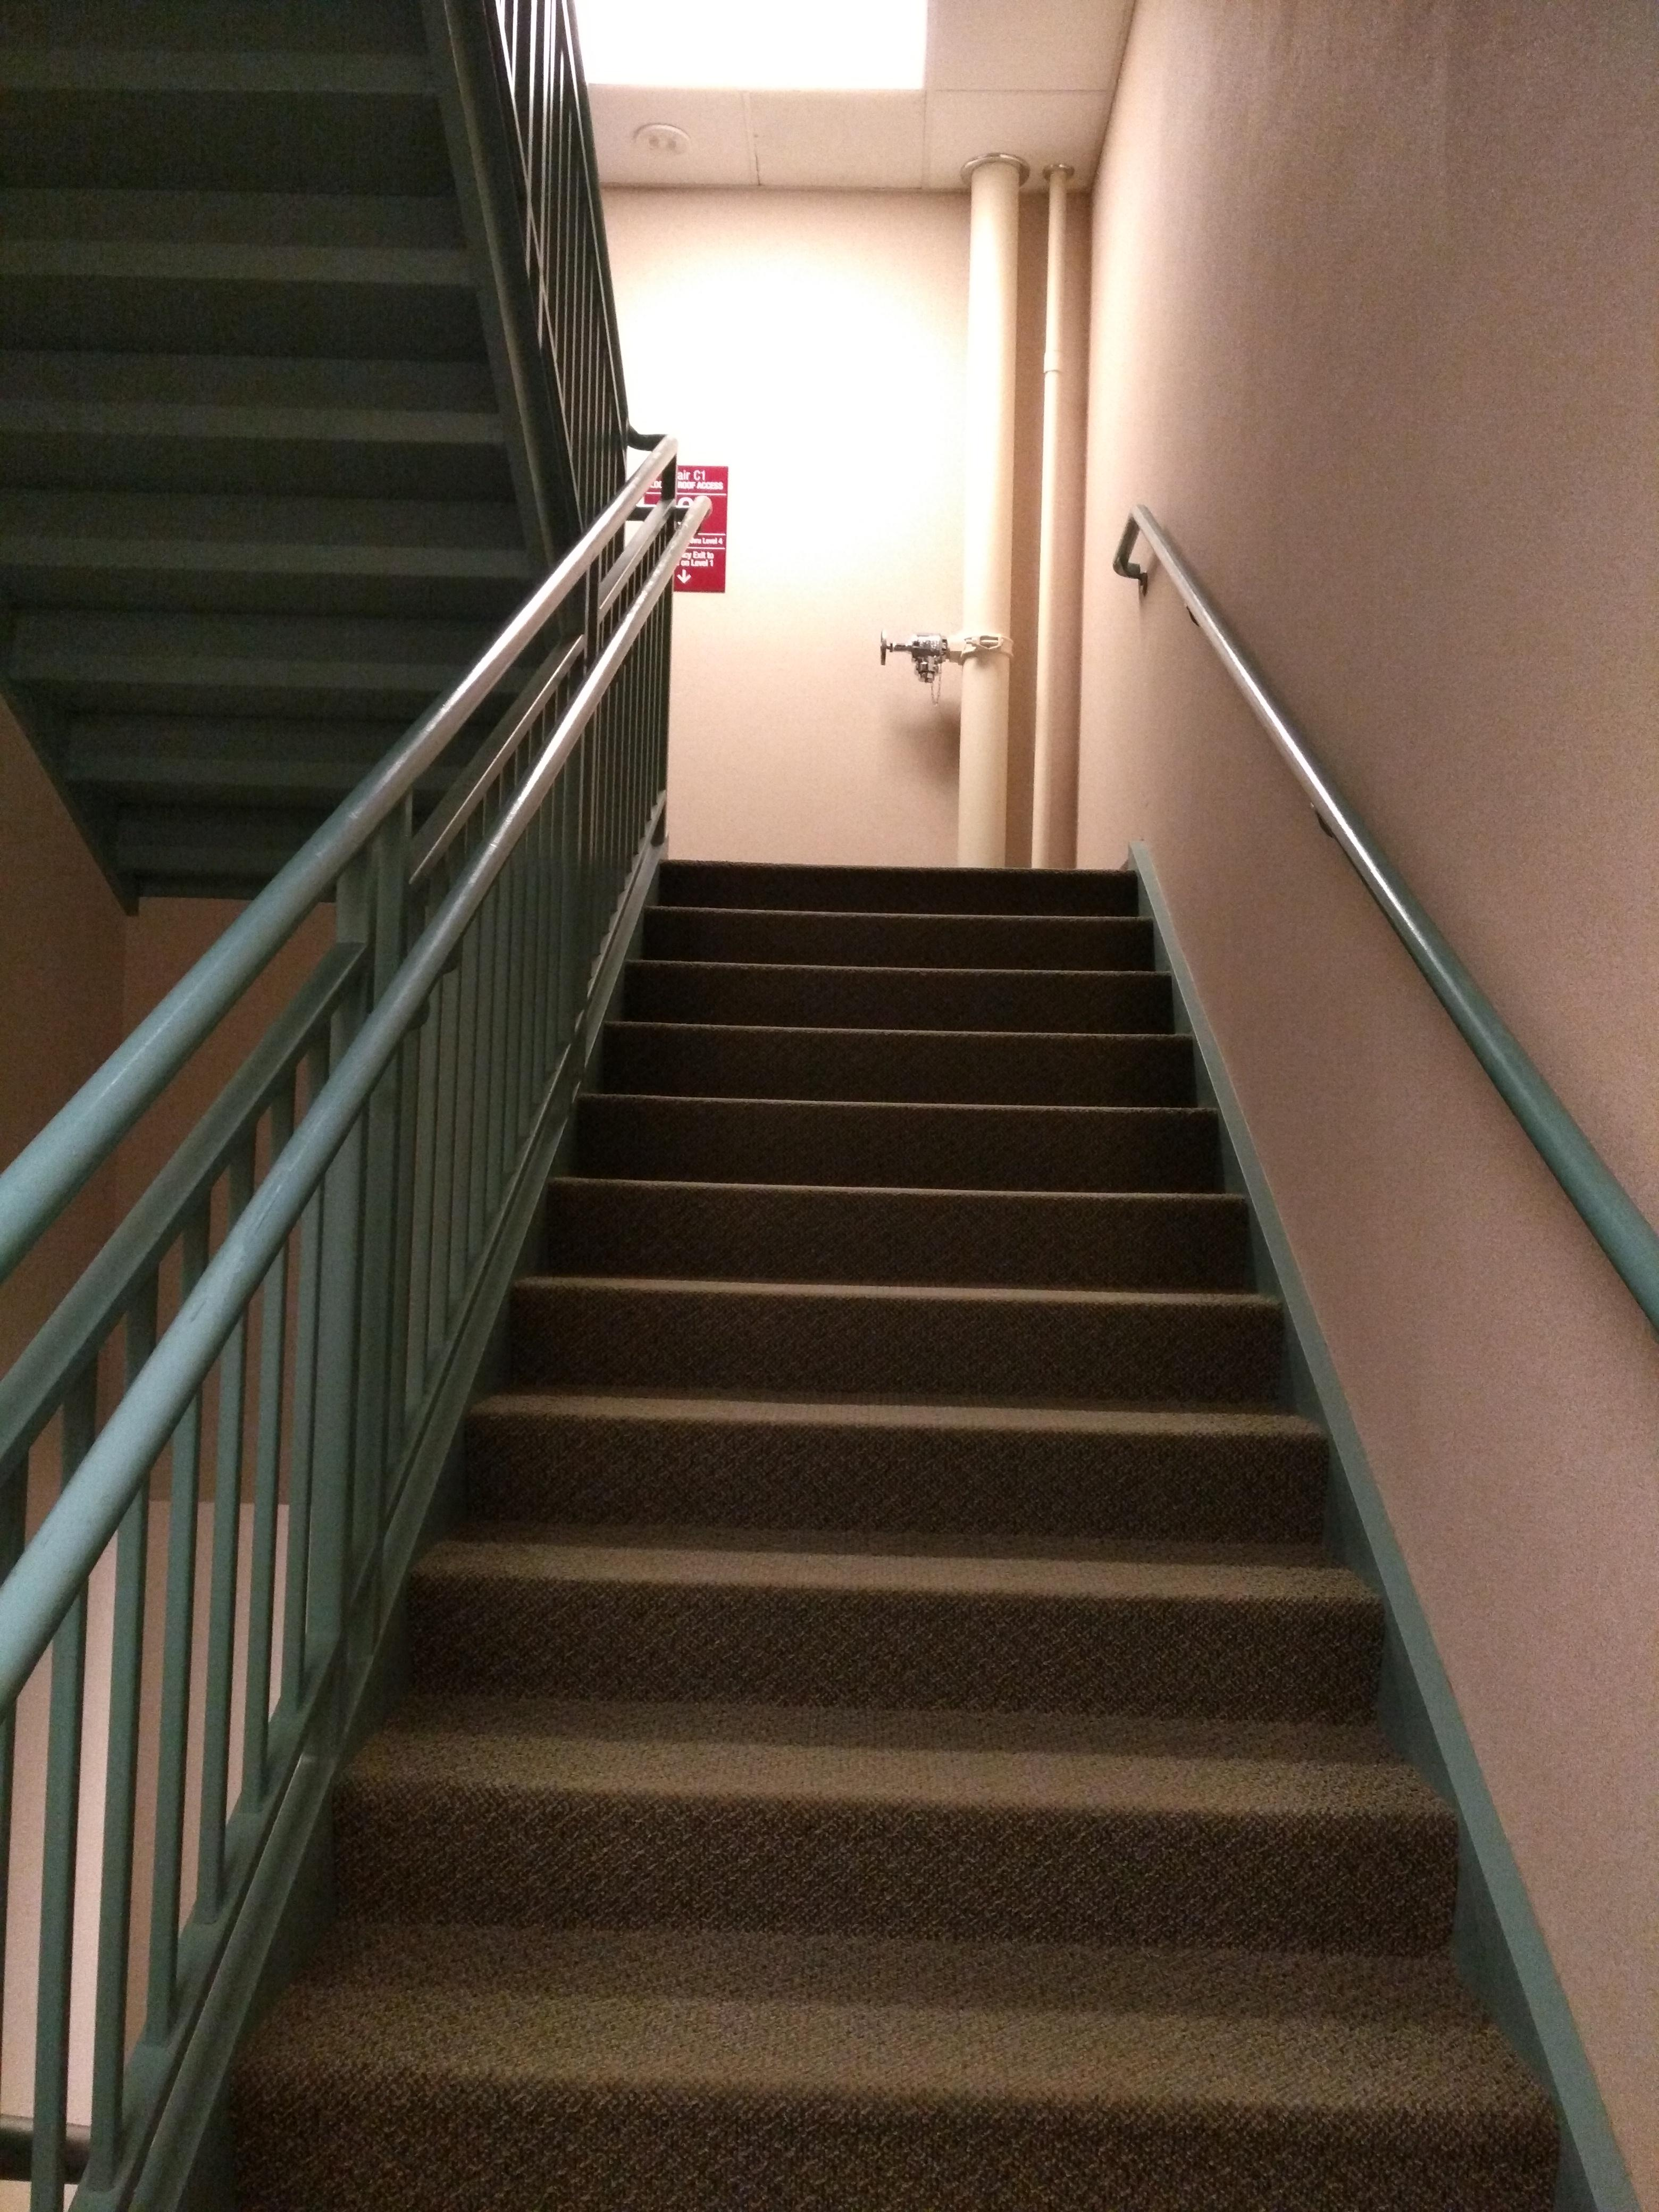stairs_up: (230, 853, 1584, 2196)
